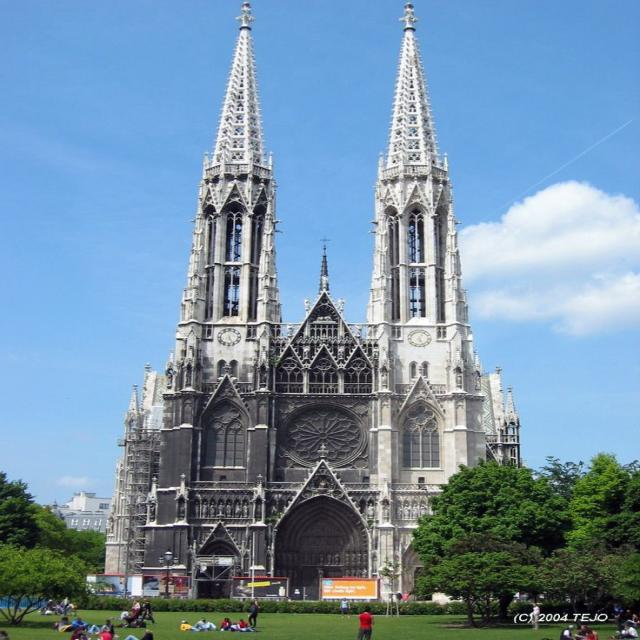body: (356, 605, 376, 640), (610, 601, 627, 633), (87, 618, 115, 636), (609, 623, 638, 640), (138, 599, 156, 625), (246, 597, 261, 628), (193, 616, 219, 631), (528, 602, 541, 631), (179, 619, 208, 632), (54, 616, 76, 633), (234, 577, 252, 597), (123, 629, 154, 640), (70, 617, 92, 632), (338, 597, 352, 619), (218, 616, 236, 632), (95, 624, 113, 640), (573, 624, 590, 640), (559, 624, 576, 639), (230, 624, 258, 633), (38, 598, 54, 613), (70, 627, 88, 640), (624, 613, 639, 627), (130, 597, 142, 614), (584, 629, 598, 640), (394, 590, 403, 605), (119, 609, 131, 620), (235, 618, 248, 628), (401, 590, 409, 605), (61, 596, 70, 608), (116, 576, 127, 584)
